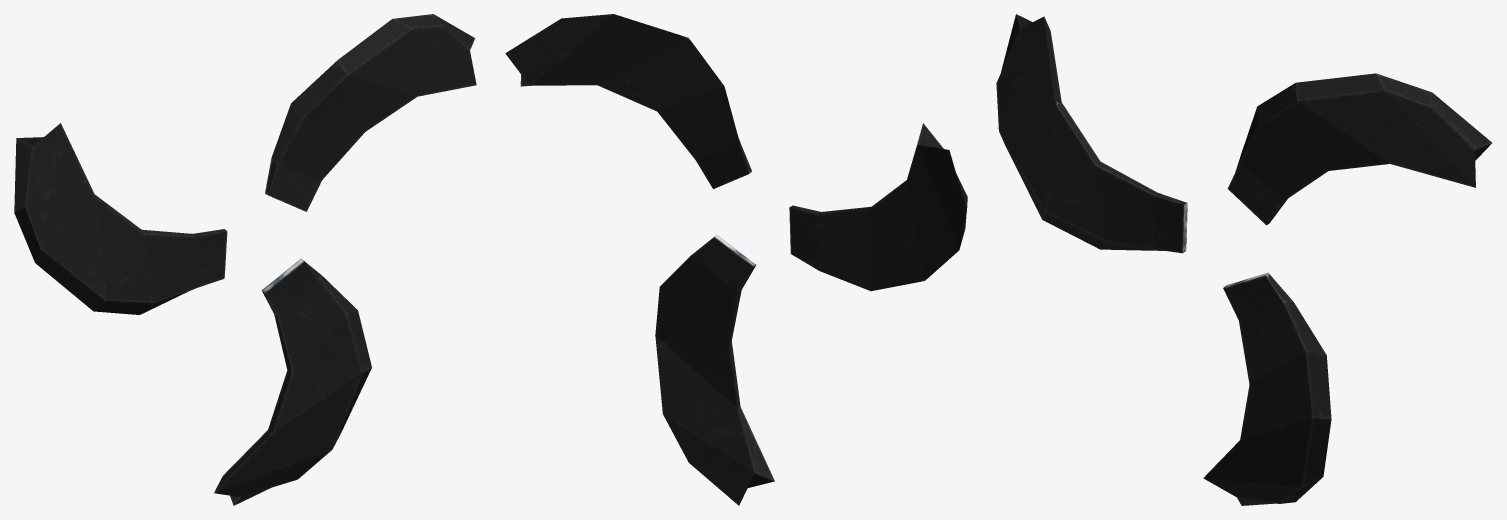
The model's file is TvLeft.gltf.
3 renders of one model, left to right at view 1: azimuth 30°, elevation 25°; view 2: azimuth 150°, elevation 25°; view 3: azimuth 330°, elevation 25°, orthographic. The views are drawn at different scales.
Parts seen in each view (by area): view 1: Cube.018; view 2: Cube.018; view 3: Cube.018.
Part boxes in pixels (left/top/right/bottom): Cube.018: left=14, top=14, right=476, bottom=505; Cube.018: left=505, top=14, right=967, bottom=505; Cube.018: left=996, top=14, right=1491, bottom=505.
Size of the model in its own units: 0.9134 by 0.8607 by 0.1023.
1 material, 1 textured.
